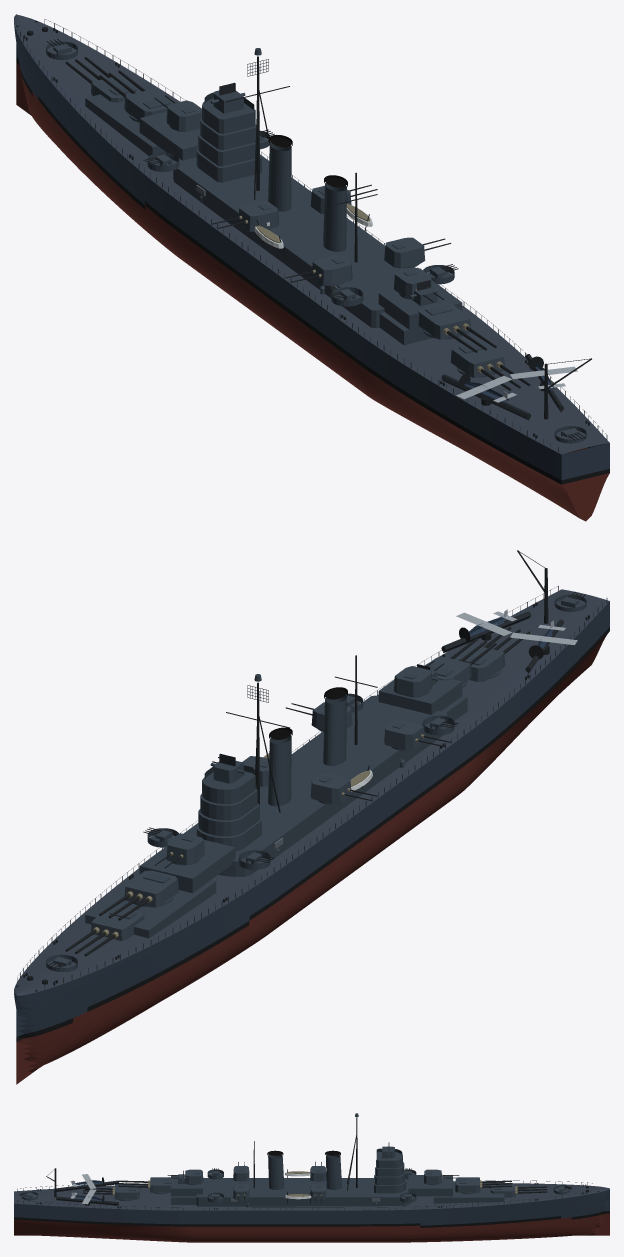
File: cleveland.glb
3 renders of one model, top to bottom at view 1: azimuth 30°, elevation 25°; view 2: azimuth 150°, elevation 25°; view 3: azimuth 270°, elevation 25°, orthographic. The views are drawn at different scales.
Visible parts, largest first — view 1: Hull, Turret3, Turret4, Turret2, Mount56, Mount55, Mount54, Turret1, Mount51, Mount52, Director; view 2: Hull, Turret2, Turret1, Turret4, Mount54, Mount56, Turret3, Mount51, Mount52, Director; view 3: Hull, Turret2, Turret3, Turret4, Turret1, Mount51, Mount52, Mount55, Mount54, Mount53, Mount56.
Part boxes in pixels (x1,y1,x2,y2): Hull: [14, 14, 609, 521]; Turret3: [418, 302, 496, 352]; Turret4: [450, 340, 530, 390]; Turret2: [99, 70, 176, 122]; Mount56: [285, 254, 352, 286]; Mount55: [384, 237, 451, 268]; Mount54: [212, 201, 278, 232]; Turret1: [65, 57, 141, 102]; Mount51: [154, 95, 201, 132]; Mount52: [394, 268, 444, 302]; Director: [210, 82, 245, 113]; Hull: [14, 550, 609, 1084]; Turret2: [99, 870, 178, 920]; Turret1: [65, 906, 144, 956]; Turret4: [454, 627, 530, 681]; Mount54: [310, 773, 377, 804]; Mount56: [384, 719, 451, 750]; Turret3: [425, 638, 496, 687]; Mount51: [154, 833, 205, 868]; Mount52: [393, 661, 444, 697]; Director: [210, 753, 245, 783]; Hull: [14, 1113, 609, 1242]; Turret2: [455, 1177, 511, 1194]; Turret3: [118, 1177, 174, 1194]; Turret4: [83, 1184, 139, 1201]; Turret1: [490, 1183, 547, 1197]; Mount51: [424, 1169, 459, 1185]; Mount52: [167, 1169, 203, 1185]; Mount55: [233, 1184, 249, 1202]; Mount54: [310, 1161, 326, 1181]; Mount53: [310, 1184, 326, 1202]; Mount56: [233, 1162, 249, 1181].
Bounding box in the file's own units: 30 × 41.9 × 186.
